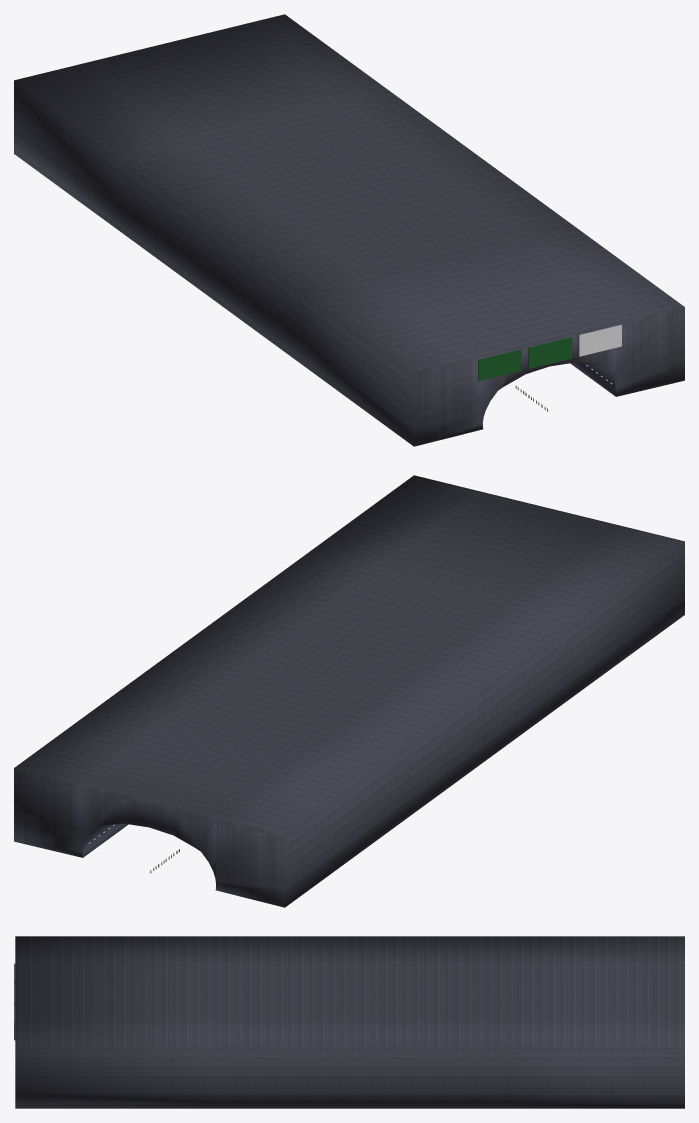
File: tunnel2.glb
3 renders of one model, top to bottom at view 1: azimuth 30°, elevation 25°; view 2: azimuth 150°, elevation 25°; view 3: azimuth 270°, elevation 25°, orthographic. The views are drawn at different scales.
Parts seen in each view (by area): view 1: tunnel2; view 2: tunnel2; view 3: tunnel2.
Part boxes in pixels (<box>): tunnel2: <box>14,14,684,446</box>; tunnel2: <box>14,475,684,907</box>; tunnel2: <box>14,936,684,1108</box>.
Bounding box in the file's own units: 196 × 50.69 × 501.
Materials: 6 (2 with a texture image).
